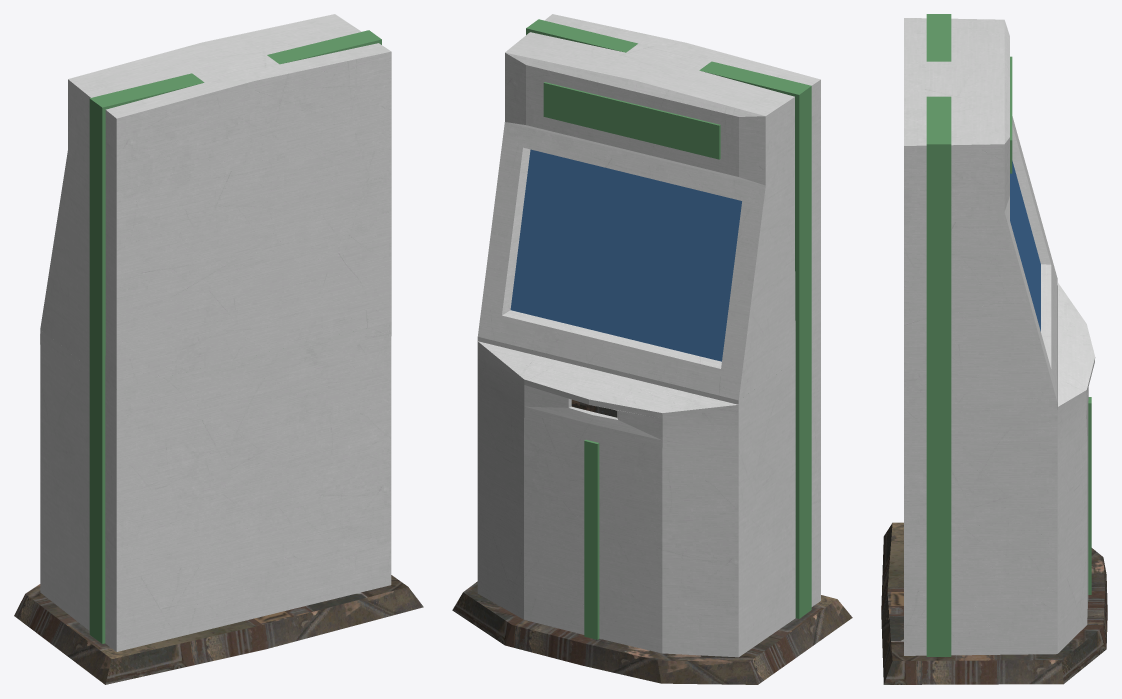
Rendered from ATM.fbx.
The picture shows the model from 3 angles, left to right: view 1: azimuth 30°, elevation 25°; view 2: azimuth 150°, elevation 25°; view 3: azimuth 270°, elevation 25°; orthographic projection. The views are drawn at different scales.
Parts seen in each view (by area): view 1: ATM; view 2: ATM; view 3: ATM.
Part boxes in pixels (<box>): ATM: <box>14,14,423,684</box>; ATM: <box>452,14,852,684</box>; ATM: <box>881,14,1107,684</box>.
Bounding box in the file's own units: 140 × 235 × 90.35.
